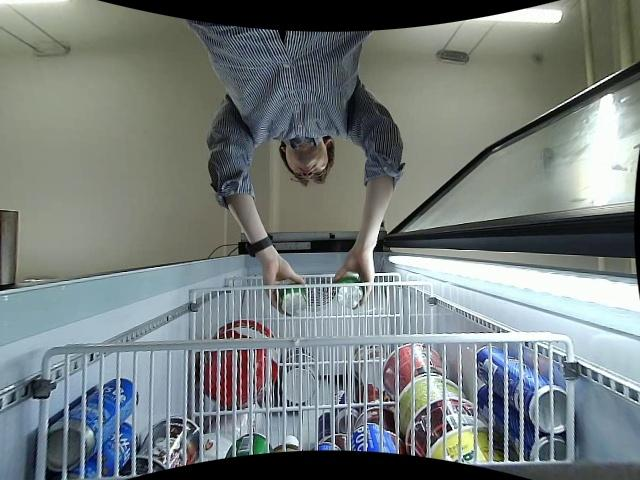00_hand: (262, 259, 308, 318), (334, 250, 376, 307)
18_trevi: (273, 281, 308, 315), (334, 274, 363, 309)
